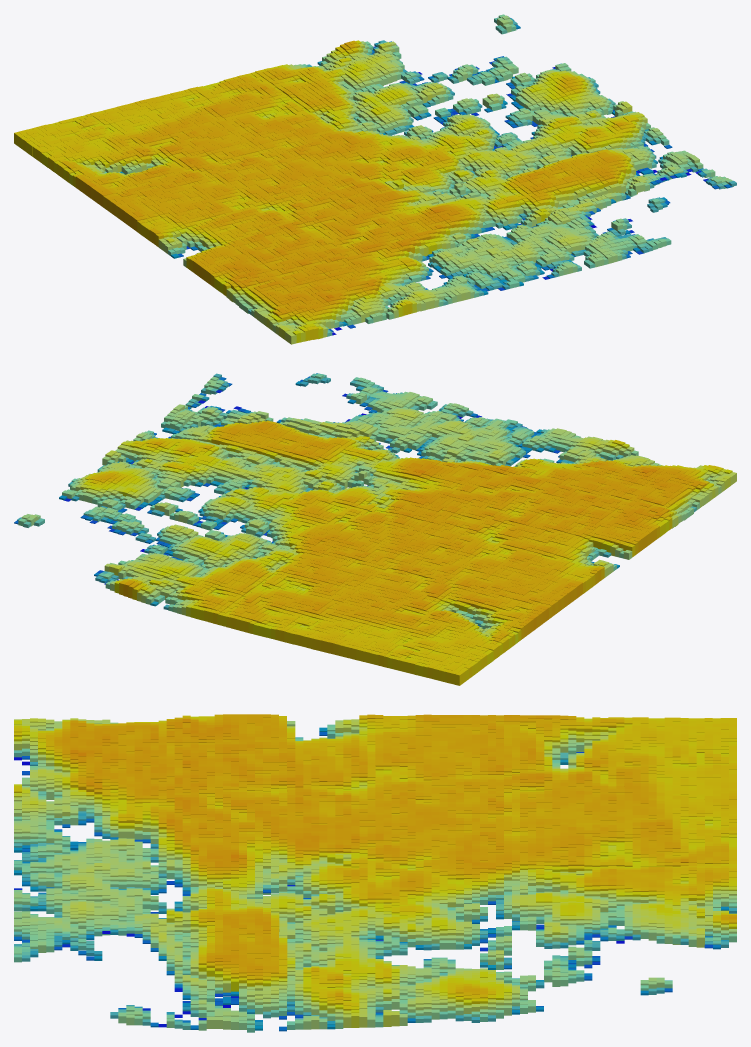
Rendered from population.glb.
The picture shows the model from 3 angles, top to bottom: view 1: azimuth 30°, elevation 25°; view 2: azimuth 150°, elevation 25°; view 3: azimuth 270°, elevation 25°; orthographic projection. The views are drawn at different scales.
Parts seen in each view (by area): view 1: population; view 2: population; view 3: population.
Boxes of the visible parts, box(x1,y1,x2,y2) form: population: box(14, 14, 736, 344); population: box(14, 373, 736, 685); population: box(14, 714, 736, 1032).
Bounding box in the file's own units: 9029 × 635 × 8969.
